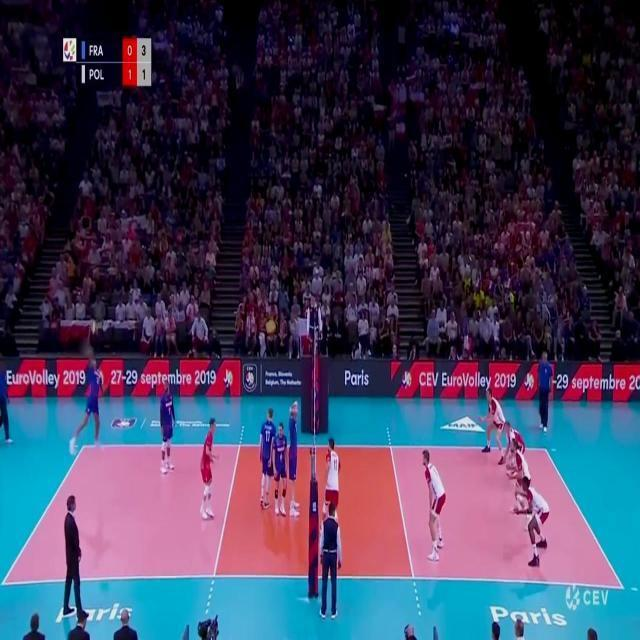volleyball: (90, 322, 99, 336)
